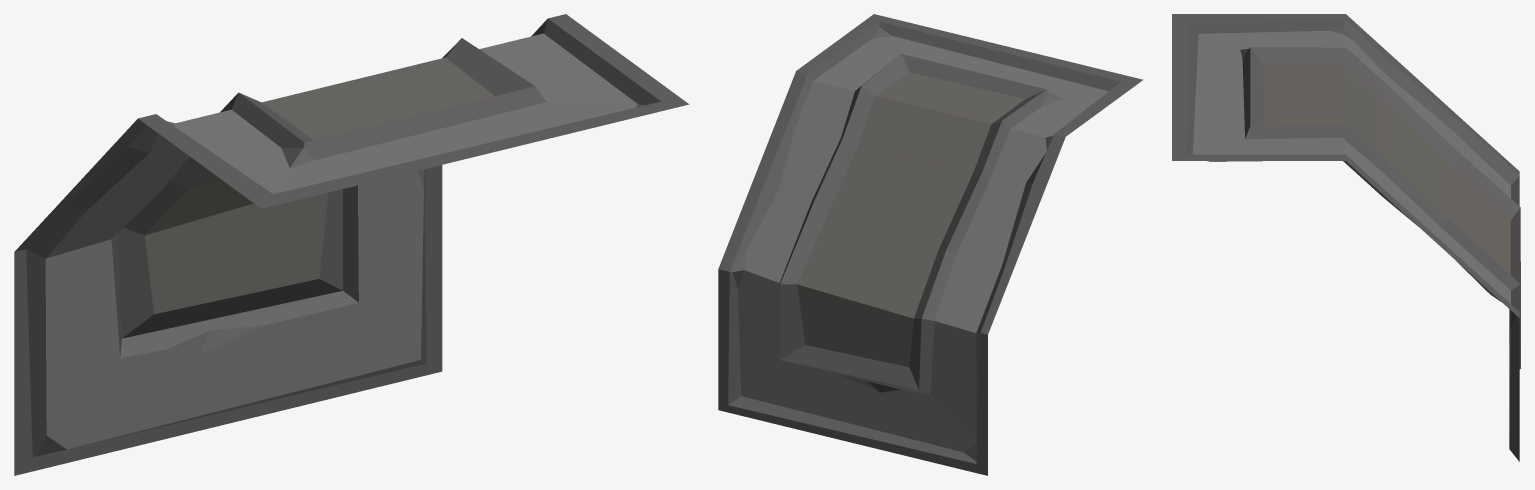
The model's file is SM_Env_Ceiling_Stone_Curved_01.FBX.
3 views of the same model, side by side, from view 1: azimuth 30°, elevation 25°; view 2: azimuth 150°, elevation 25°; view 3: azimuth 270°, elevation 25° (orthographic). The views are drawn at different scales.
Parts seen in each view (by area): view 1: SM_Env_Ceiling_Stone_Curved_01; view 2: SM_Env_Ceiling_Stone_Curved_01; view 3: SM_Env_Ceiling_Stone_Curved_01.
Part boxes in pixels (bbox=[...]): SM_Env_Ceiling_Stone_Curved_01: bbox=[14, 14, 689, 475]; SM_Env_Ceiling_Stone_Curved_01: bbox=[718, 14, 1143, 475]; SM_Env_Ceiling_Stone_Curved_01: bbox=[1172, 14, 1520, 461].
Size of what is drawn, in the model's own units: 500 by 502 by 502.
